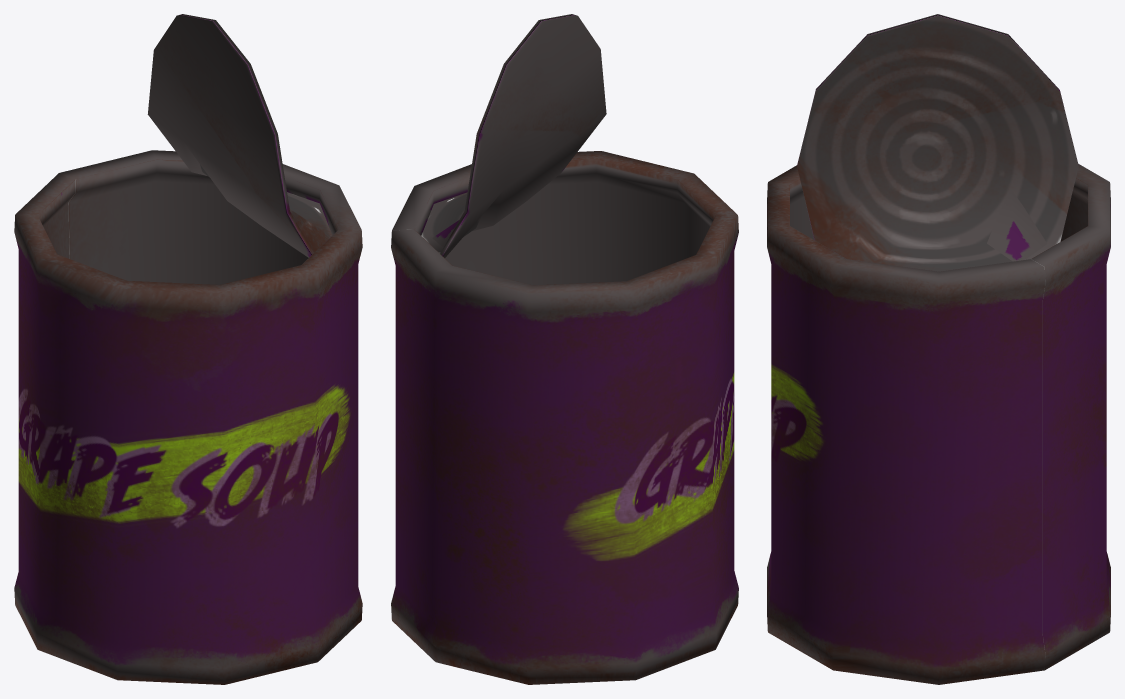
File: TinCan2.obj
The picture shows the model from 3 angles, left to right: view 1: azimuth 30°, elevation 25°; view 2: azimuth 150°, elevation 25°; view 3: azimuth 270°, elevation 25°; orthographic projection. The views are drawn at different scales.
Parts seen in each view (by area): view 1: pDisc2_blinn1SG; view 2: pDisc2_blinn1SG; view 3: pDisc2_blinn1SG.
Part boxes in pixels (box(x1,y1,x2,y2)): pDisc2_blinn1SG: box(14, 14, 362, 684); pDisc2_blinn1SG: box(391, 14, 738, 684); pDisc2_blinn1SG: box(767, 14, 1110, 684).
Bounding box in the file's own units: 23.8 × 43.99 × 22.64.
1 material, 1 textured.
